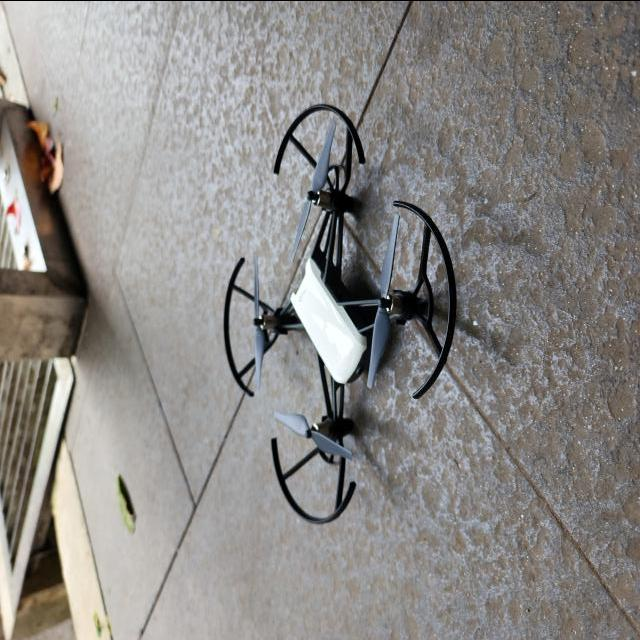drone: (217, 98, 463, 533)
